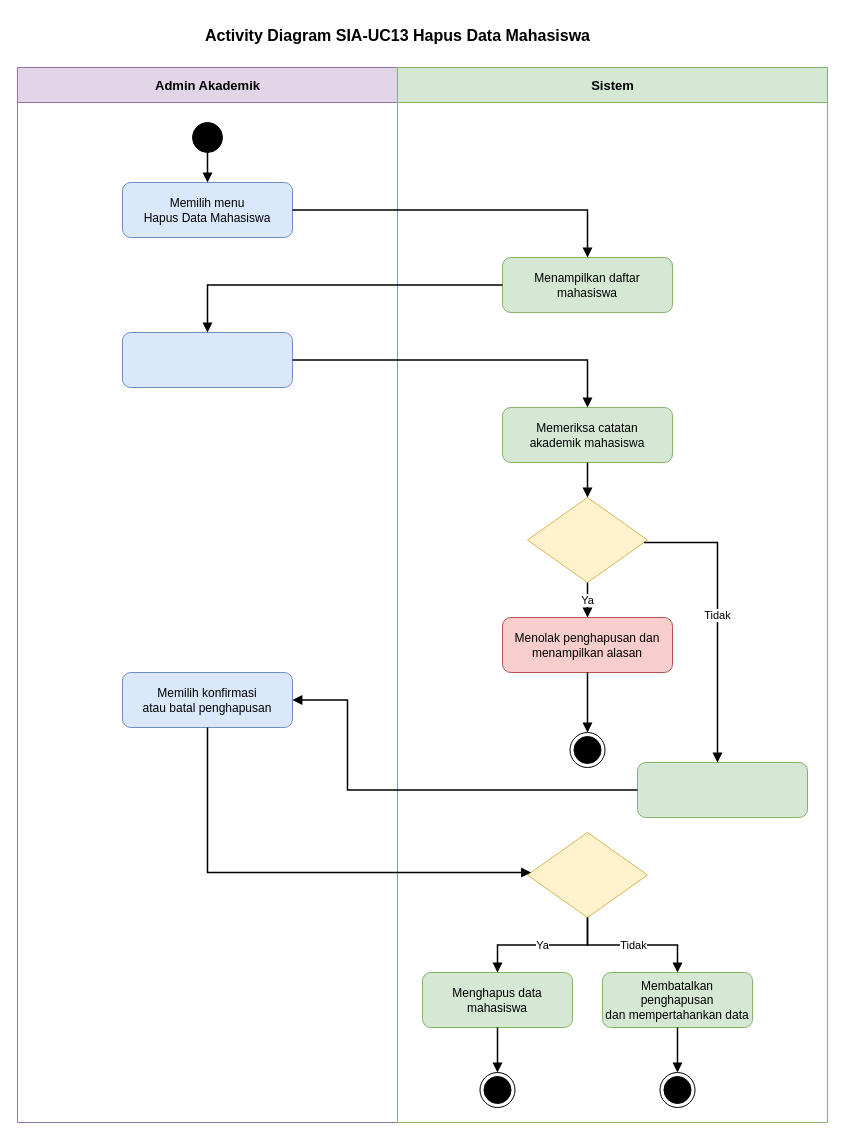
This 845x1140 diagram has some shape labels left out. The centre of each missing label's shape, as x and y in pixels:
Memilih data mahasiswa: the point at 207,360
Memiliki catatan akademik aktif?: the point at 587,539
Menampilkan konfirmasi penghapusan data: the point at 722,790
Penghapusan dikonfirmasi?: the point at 587,875
